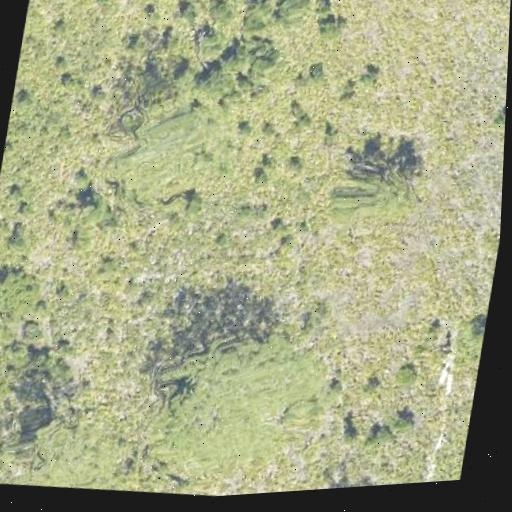tree-top: (139, 315, 346, 501), (5, 407, 136, 499), (317, 147, 432, 249), (99, 98, 205, 206)
